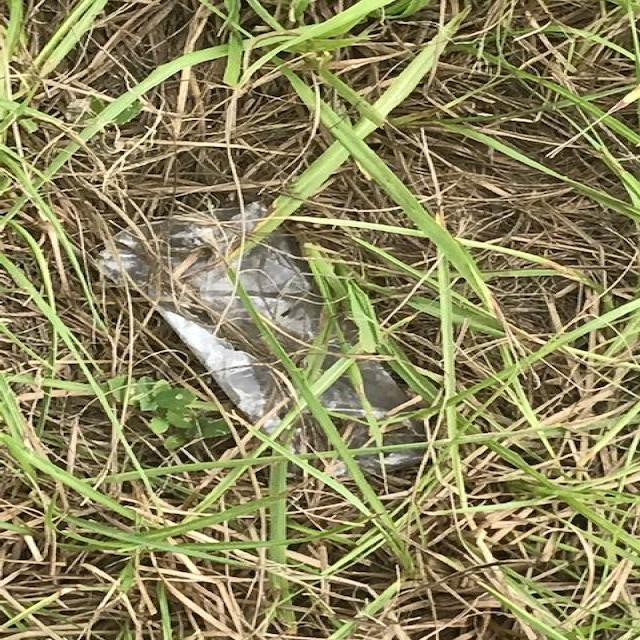litter: (96, 203, 432, 481)
